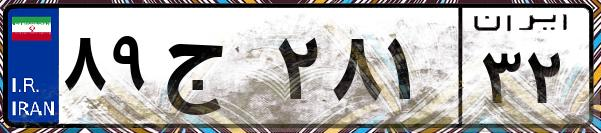1: (385, 28, 445, 110)
2: (270, 28, 330, 110), (525, 38, 570, 115)
3: (475, 38, 525, 113)
8: (330, 28, 385, 110), (57, 26, 110, 100)
9: (110, 28, 158, 98)
ج: (158, 20, 270, 120)
